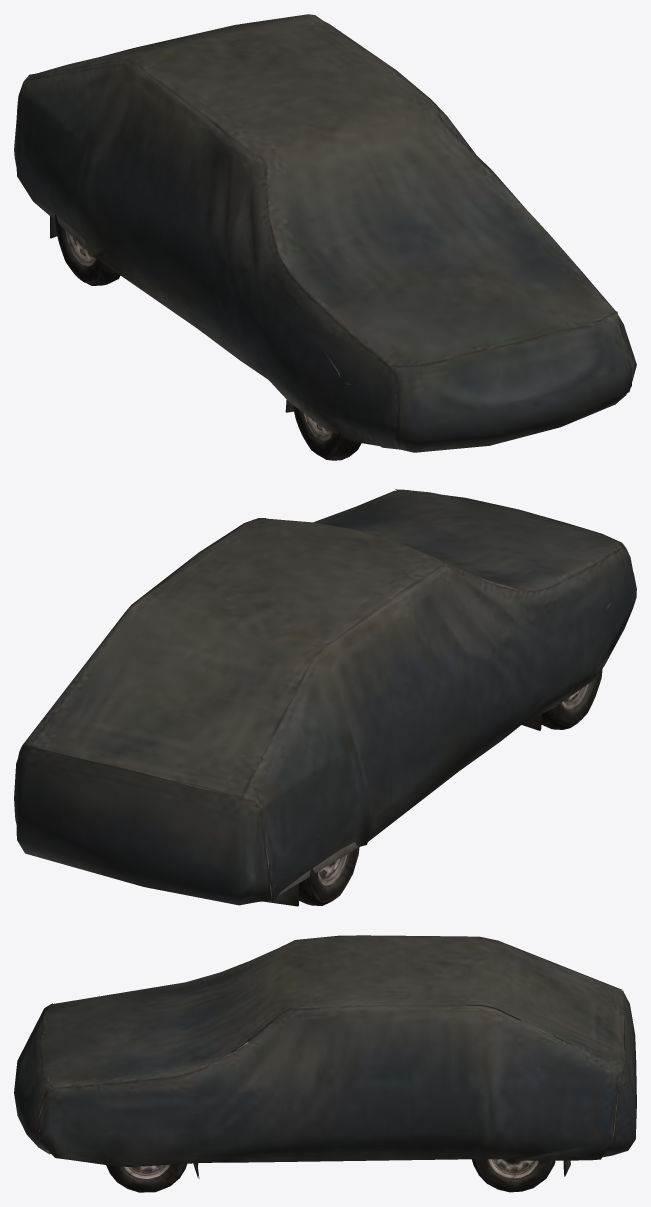
The model's file is covered_car.glb.
3 views of the same model, one above another, from view 1: azimuth 30°, elevation 25°; view 2: azimuth 150°, elevation 25°; view 3: azimuth 270°, elevation 25° (orthographic). The views are drawn at different scales.
Visible parts, largest first — view 1: covered_car, covered_car_wheel_03, covered_car_wheel_02; view 2: covered_car, covered_car_wheel_03, covered_car_wheel_02; view 3: covered_car, covered_car_wheel_04, covered_car_wheel_01.
Part boxes in pixels (x1,y1,x2,y2): covered_car: [14, 14, 636, 452]; covered_car_wheel_03: [55, 214, 120, 285]; covered_car_wheel_02: [292, 405, 361, 460]; covered_car: [14, 489, 636, 906]; covered_car_wheel_03: [299, 847, 359, 905]; covered_car_wheel_02: [541, 665, 602, 729]; covered_car: [14, 935, 636, 1178]; covered_car_wheel_04: [472, 1159, 555, 1192]; covered_car_wheel_01: [106, 1163, 187, 1192].
Bounding box in the file's own units: 1.8 × 1.41 × 4.37.
Materials: 1 (1 with a texture image).
